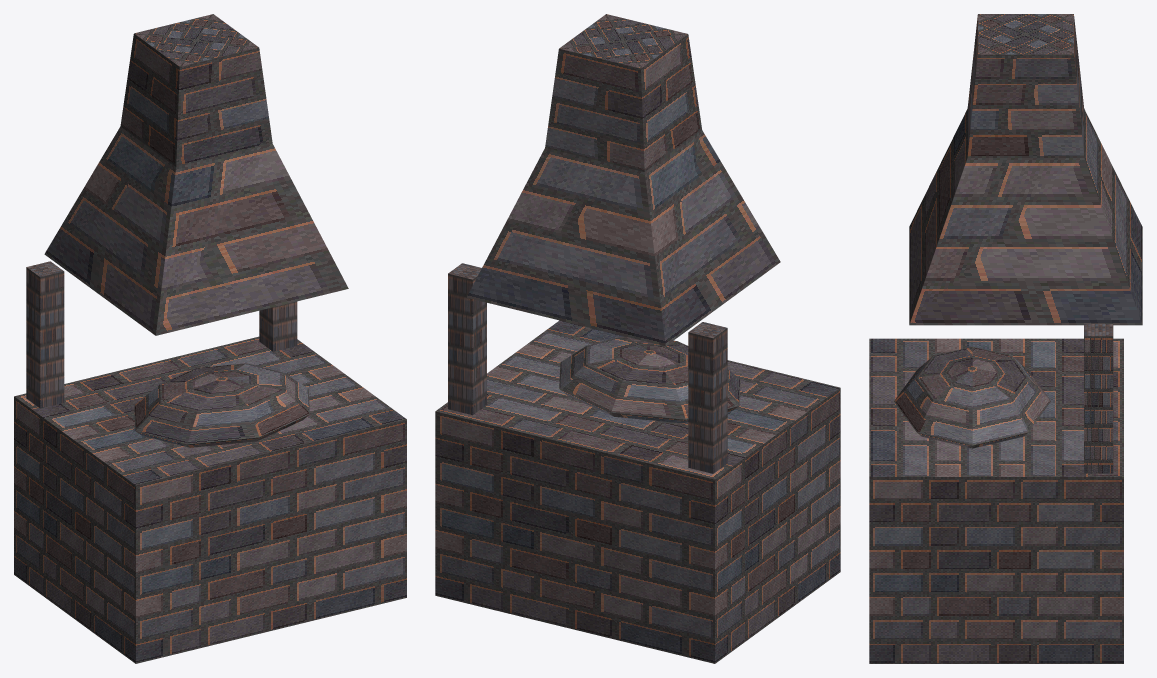
File: ferraria.glb
The picture shows the model from 3 angles, left to right: view 1: azimuth 30°, elevation 25°; view 2: azimuth 150°, elevation 25°; view 3: azimuth 270°, elevation 25°; orthographic projection. The views are drawn at different scales.
Parts seen in each view (by area): view 1: ferraria; view 2: ferraria; view 3: ferraria.
Boxes of the visible parts, <box> form: ferraria: <box>14,14,406,663</box>; ferraria: <box>435,14,840,663</box>; ferraria: <box>869,14,1142,663</box>.
Size of the model in its own units: 1.35 by 2.55 by 1.13.
Materials: 1 (1 with a texture image).
